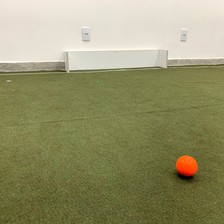ball: (173, 151, 201, 181)
goal: (59, 45, 171, 74)
